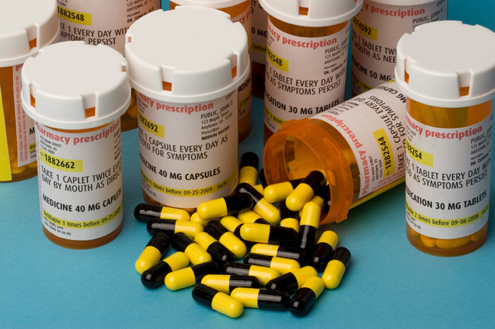pill bottle: (123, 5, 250, 208), (20, 41, 134, 252), (396, 19, 493, 257), (265, 84, 406, 219), (262, 1, 355, 135)
